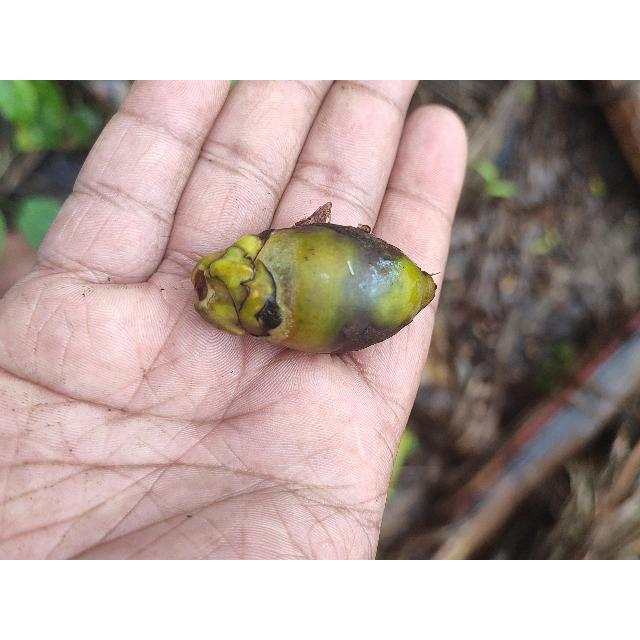damaged: (191, 223, 438, 356)
